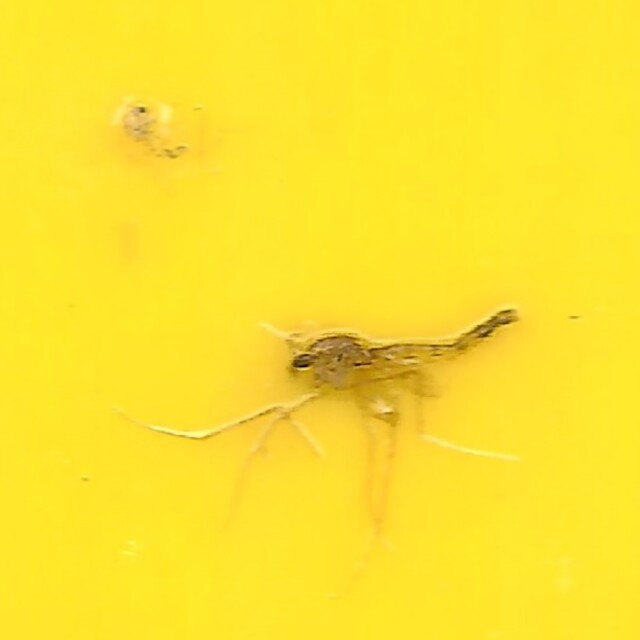Nematocera: (154, 308, 524, 537), (116, 103, 194, 168)
